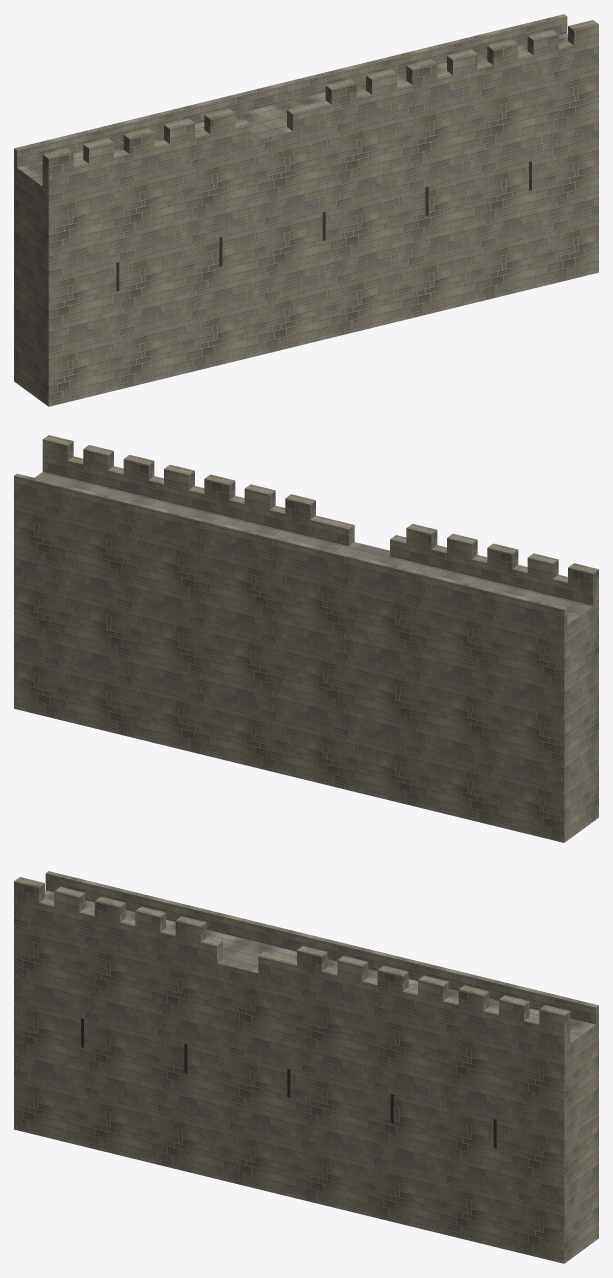
The model's file is fort-wall-32g.reveal-v1.lod0.glb.
3 views of the same model, one above another, from view 1: azimuth 30°, elevation 25°; view 2: azimuth 150°, elevation 25°; view 3: azimuth 330°, elevation 25° (orthographic).
Parts seen in each view (by area): view 1: fort-wall-32g; view 2: fort-wall-32g; view 3: fort-wall-32g.
Boxes of the visible parts, box(x1,y1,x2,y2) form: fort-wall-32g: box(14, 14, 598, 406); fort-wall-32g: box(14, 435, 598, 842); fort-wall-32g: box(14, 871, 598, 1263).
Bounding box in the file's own units: 32 × 13.8 × 3.52.
Materials: 3 (2 with a texture image).
